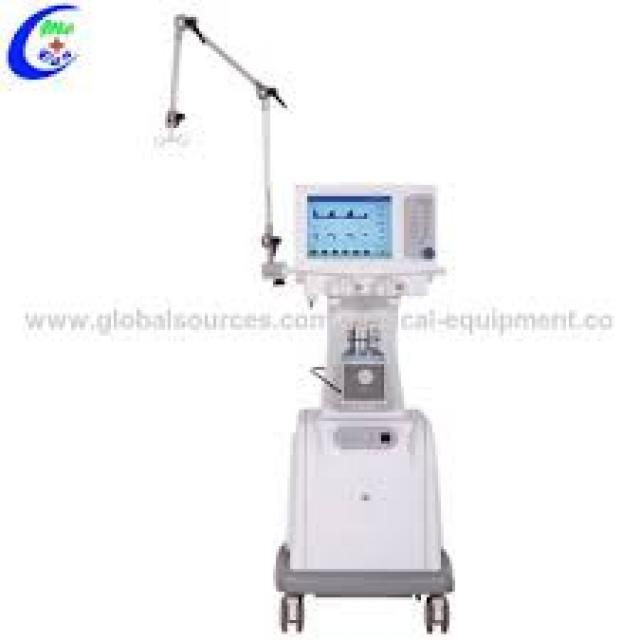ventilator: (140, 2, 503, 602)
